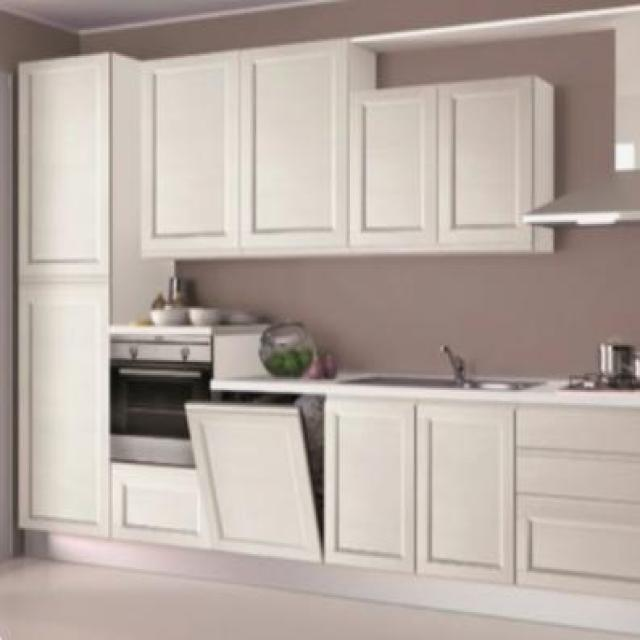dishwasher: (177, 379, 332, 573)
